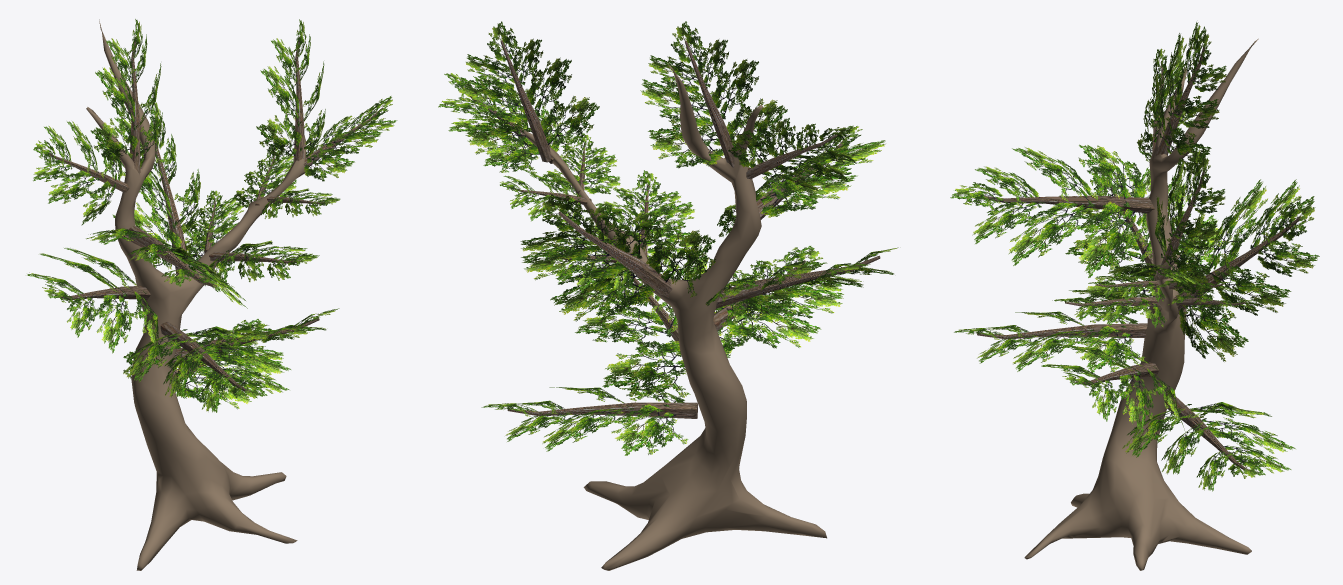
The model's file is arbol_lowpoly_version4.fbx.
3 renders of one model, left to right at view 1: azimuth 30°, elevation 25°; view 2: azimuth 150°, elevation 25°; view 3: azimuth 270°, elevation 25°, orthographic. The views are drawn at different scales.
Parts seen in each view (by area): view 1: Cube, Cylinder.004, Cylinder.013, Cylinder.008, Cylinder.012, Cylinder.011, Cylinder.007, Cylinder.002, Cylinder, Cylinder.010, Cylinder.001, Cylinder.009 (+3 smaller); view 2: Cube, Cylinder.012, Cylinder.011, Cylinder.008, Cylinder.009, Cylinder.010, Cylinder.007, Cylinder.004, Cylinder.013, Cylinder, Cylinder.002, Cylinder.001 (+3 smaller); view 3: Cube, Cylinder, Cylinder.012, Cylinder.010, Cylinder.004, Cylinder.008, Cylinder.013, Cylinder.011, Cylinder.009, Cylinder.001, Cylinder.007, Cylinder.002 (+2 smaller).
Boxes of the visible parts, <box> form: Cube: <box>86,19,308,570</box>; Cylinder.004: <box>123,321,290,412</box>; Cylinder.013: <box>27,248,159,358</box>; Cylinder.008: <box>90,19,162,174</box>; Cylinder.012: <box>112,97,214,285</box>; Cylinder.011: <box>256,19,325,164</box>; Cylinder.007: <box>33,121,129,225</box>; Cylinder.002: <box>303,96,397,181</box>; Cylinder: <box>86,225,247,308</box>; Cylinder.010: <box>123,319,283,409</box>; Cylinder.001: <box>204,240,319,282</box>; Cylinder.009: <box>165,308,339,379</box>; Cube: <box>523,64,826,570</box>; Cylinder.012: <box>520,194,715,321</box>; Cylinder.011: <box>458,21,599,162</box>; Cylinder.008: <box>640,21,787,168</box>; Cylinder.009: <box>575,245,758,397</box>; Cylinder.010: <box>481,387,697,455</box>; Cylinder.007: <box>728,118,856,203</box>; Cylinder.004: <box>665,246,843,348</box>; Cylinder.013: <box>705,247,898,326</box>; Cylinder: <box>717,125,885,236</box>; Cylinder.002: <box>438,73,564,174</box>; Cylinder.001: <box>593,170,700,258</box>; Cube: <box>1024,38,1258,570</box>; Cylinder: <box>950,144,1154,277</box>; Cylinder.012: <box>1175,179,1319,361</box>; Cylinder.010: <box>1122,395,1295,491</box>; Cylinder.004: <box>954,311,1147,373</box>; Cylinder.008: <box>1153,22,1226,174</box>; Cylinder.013: <box>1065,167,1226,315</box>; Cylinder.011: <box>1155,146,1225,293</box>; Cylinder.009: <box>1041,335,1185,432</box>; Cylinder.001: <box>1052,289,1166,327</box>; Cylinder.007: <box>1137,48,1188,161</box>; Cylinder.002: <box>1108,263,1212,291</box>.
Size of the model in its own units: 1406 by 1726 by 1168.
Materials: 2 (2 with a texture image).
